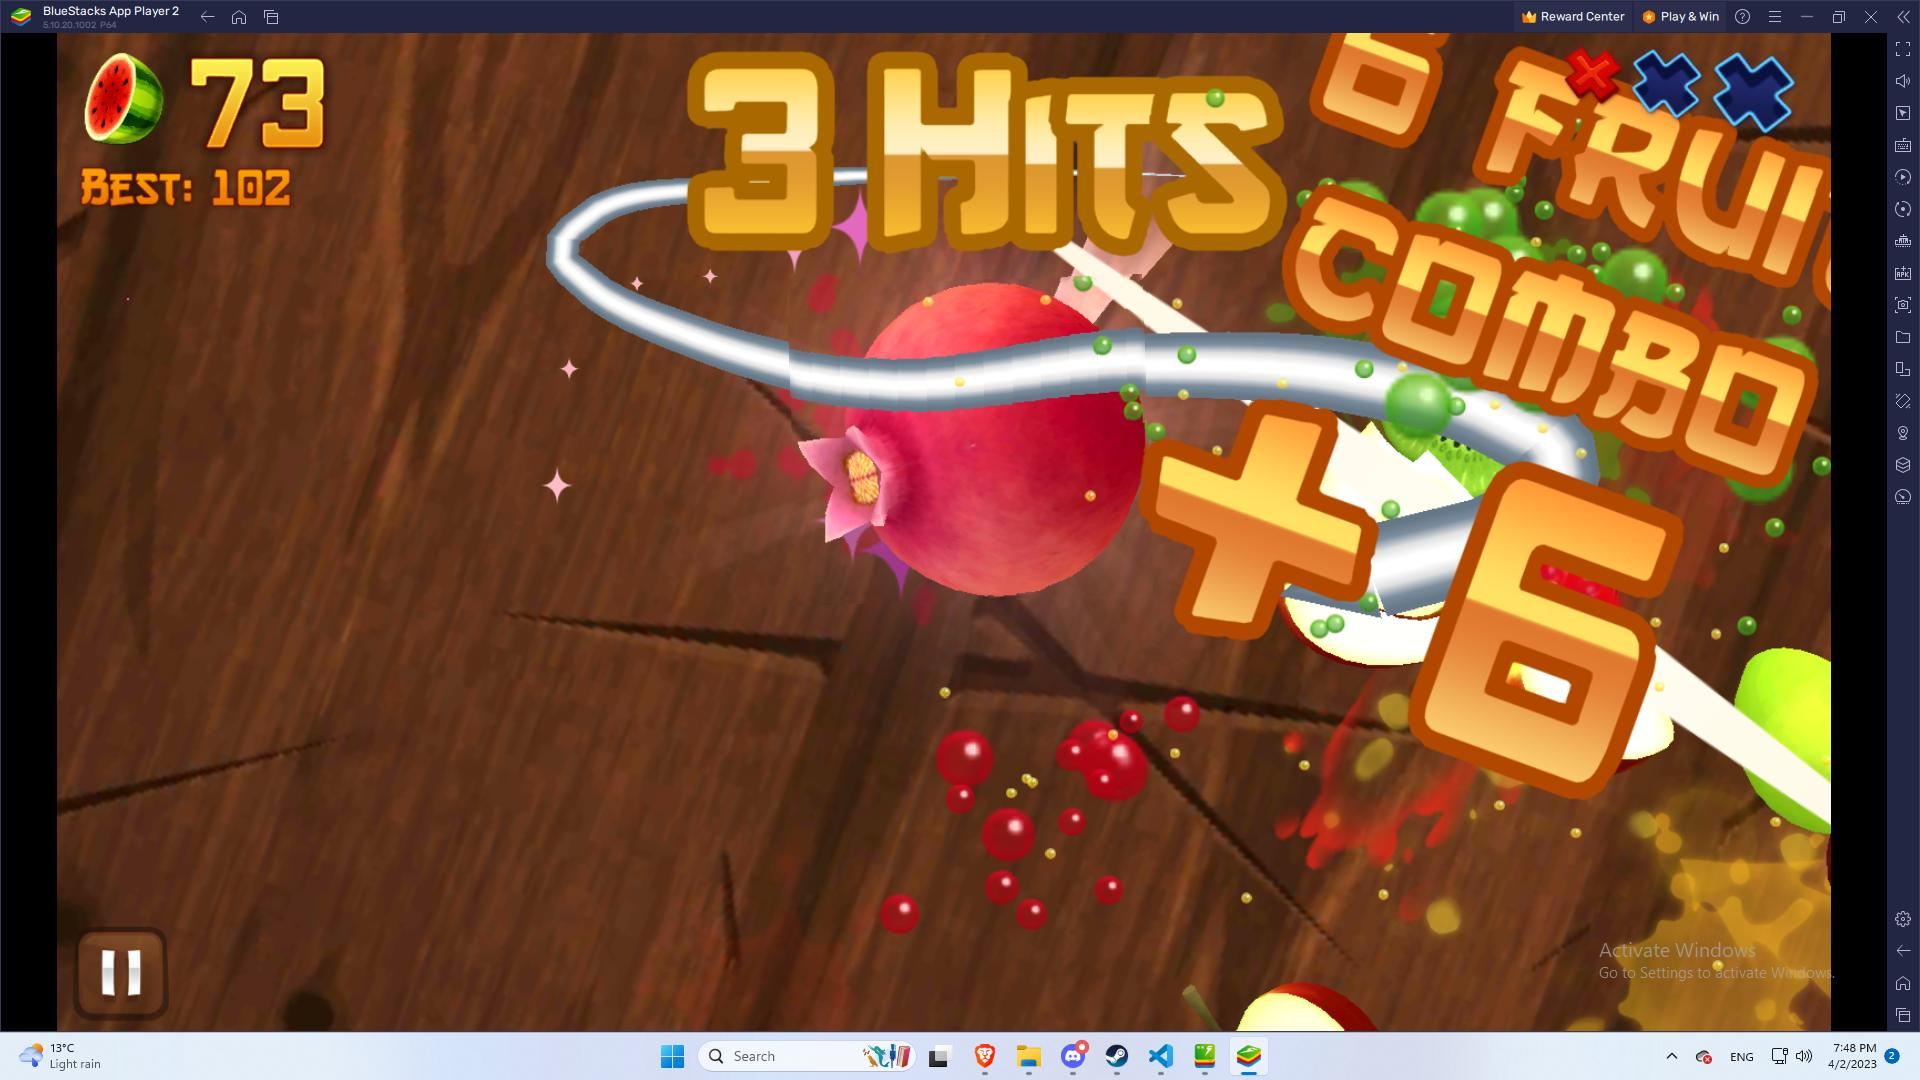fruit: (790, 277, 1151, 603)
